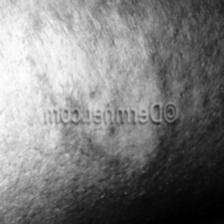Unclassified: (25, 10, 184, 104), (48, 127, 177, 172)
